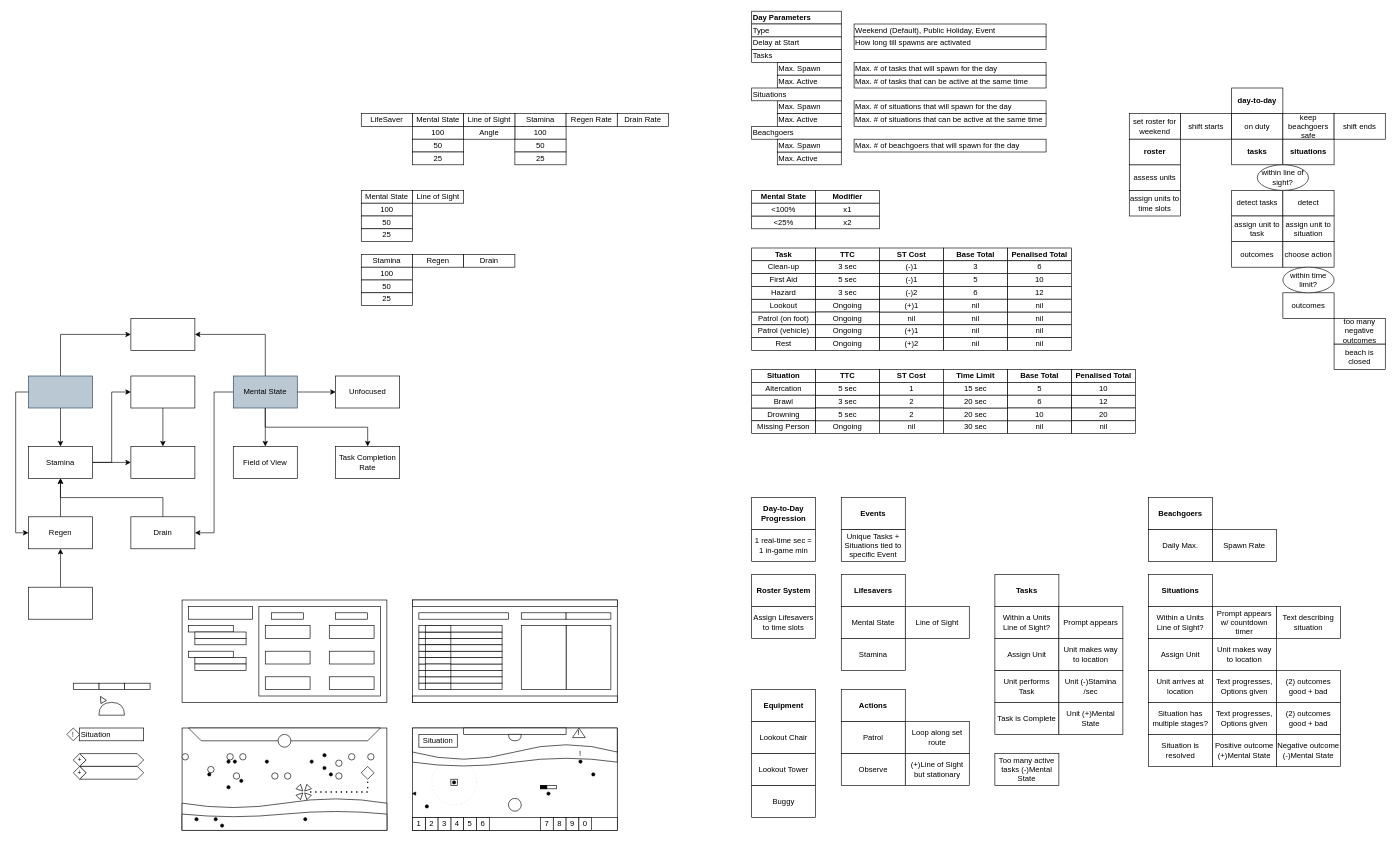
This 1396x842 diagram has some shape labels left out. The centre of each missing label's shape, as x and y in pixels:
Fatigued: the point at 162,391
Fitness: the point at 60,391
Movement Speed: the point at 162,462
Success %: the point at 162,334
Time of Day: the point at 60,603
